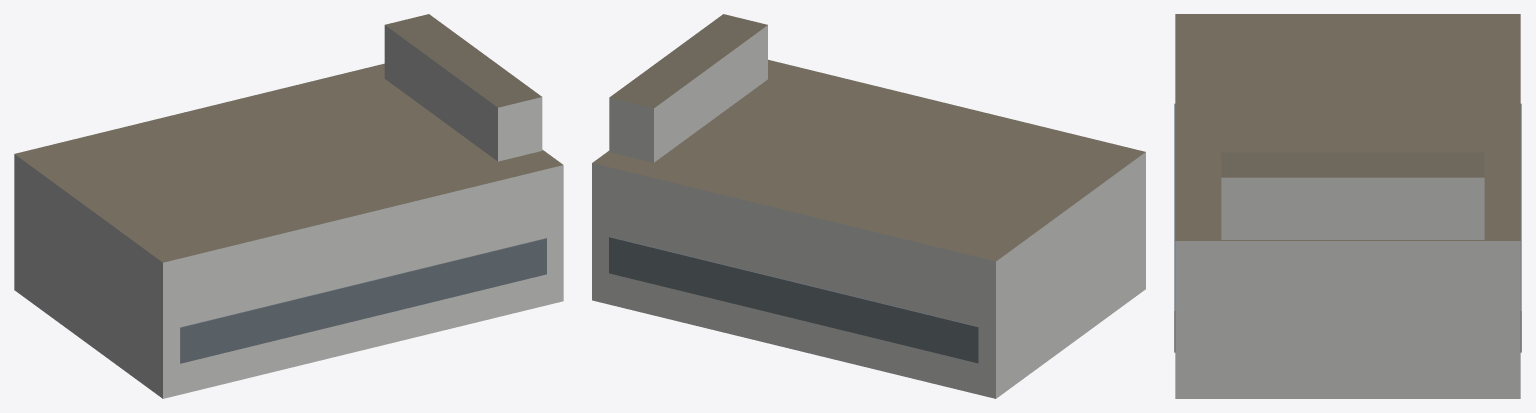
File: bay-beach-club.tone-v1.lod2.glb
The picture shows the model from 3 angles, left to right: view 1: azimuth 30°, elevation 25°; view 2: azimuth 150°, elevation 25°; view 3: azimuth 270°, elevation 25°; orthographic projection. The views are drawn at different scales.
Visible parts, largest first — view 1: bay-beach-club; view 2: bay-beach-club; view 3: bay-beach-club.
Boxes of the visible parts, left/top/right/bottom form: bay-beach-club: left=14, top=14, right=563, bottom=398; bay-beach-club: left=592, top=14, right=1145, bottom=398; bay-beach-club: left=1174, top=14, right=1521, bottom=398.
Bounding box in the file's own units: 14 × 6.35 × 9.06.
